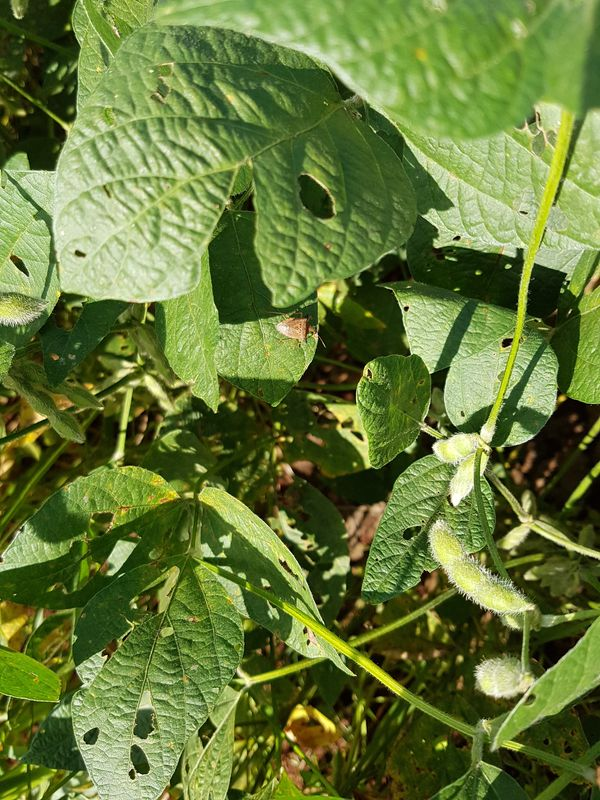Euschistus_heros_adulto: (269, 308, 325, 354)
